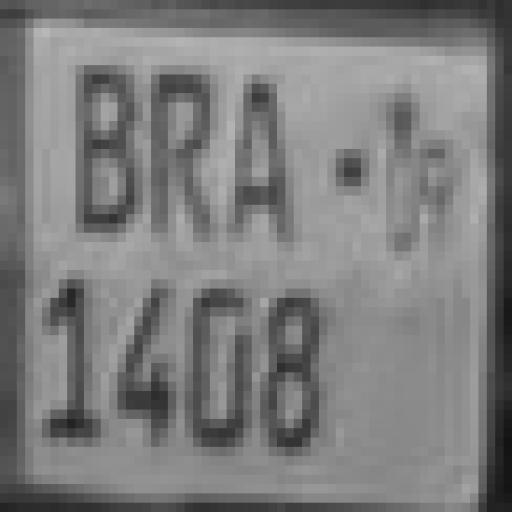0: (185, 278, 252, 456)
1: (40, 264, 100, 456)
4: (109, 268, 179, 458)
8: (259, 294, 328, 452)
A: (223, 83, 303, 249)
B: (74, 68, 142, 242)
R: (147, 66, 218, 248)
